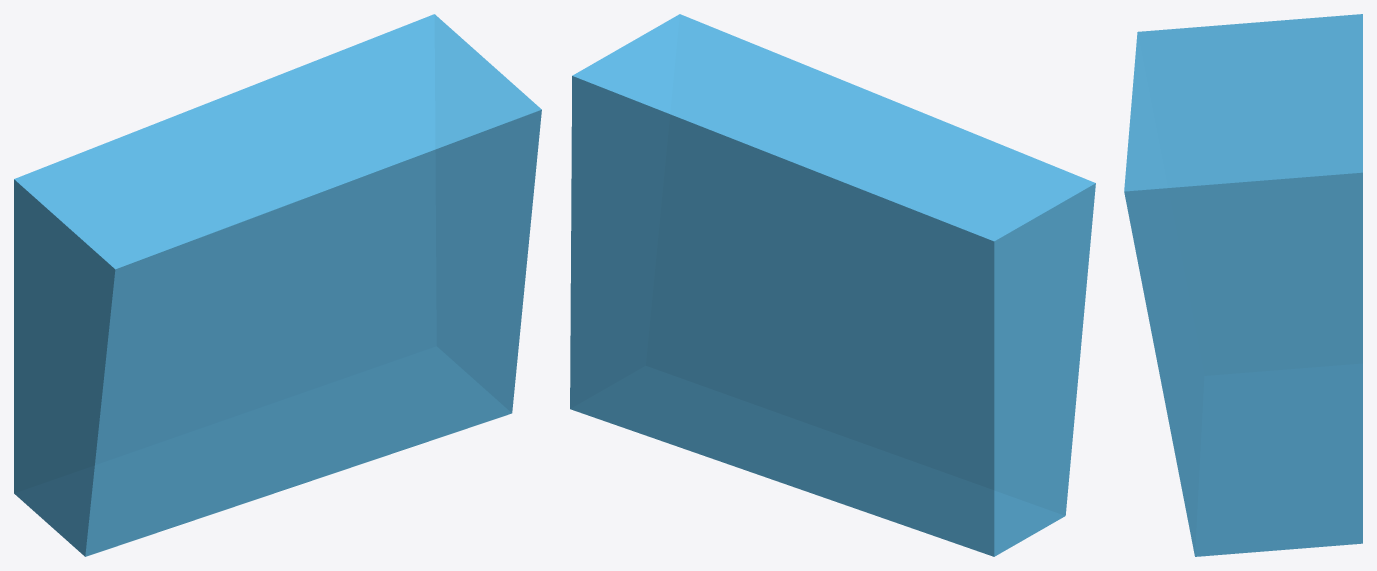
Rendered from Event_420107950_HErechit_71.fbx.
3 views of the same model, side by side, from view 1: azimuth 30°, elevation 25°; view 2: azimuth 150°, elevation 25°; view 3: azimuth 270°, elevation 25° (orthographic). The views are drawn at different scales.
Parts seen in each view (by area): view 1: Model; view 2: Model; view 3: Model.
Boxes of the visible parts, x1,y1,x2,y2 form: Model: [14, 14, 541, 556]; Model: [570, 14, 1095, 556]; Model: [1124, 14, 1362, 556].
Bounding box in the file's own units: 0.6577 × 0.5771 × 0.2893.
